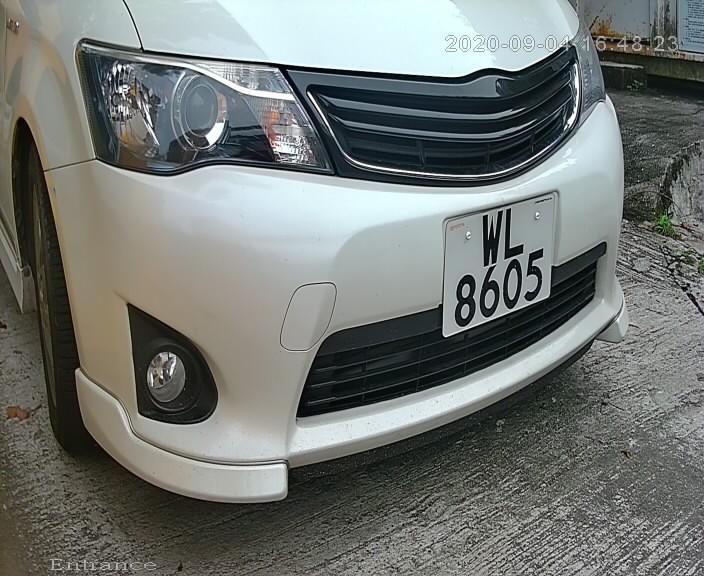License Plate: (433, 177, 566, 348)
